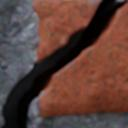broken_brick: (39, 0, 127, 115), (34, 0, 101, 61)
crack: (0, 0, 125, 127)
